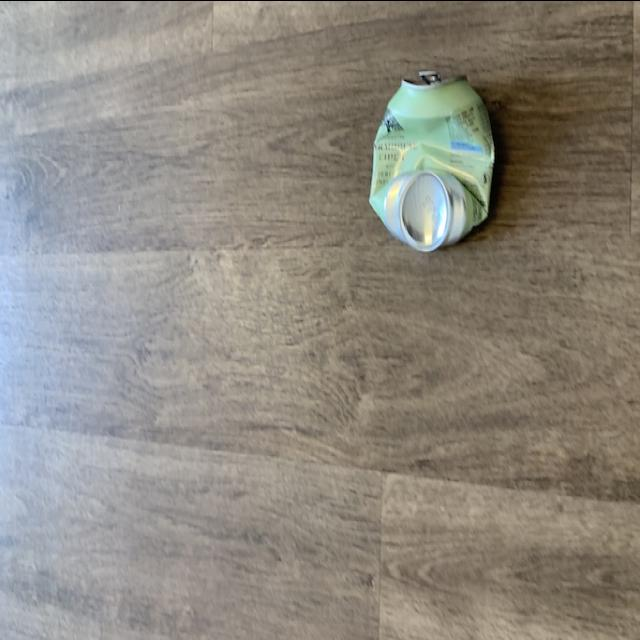litter: (355, 55, 503, 296)
